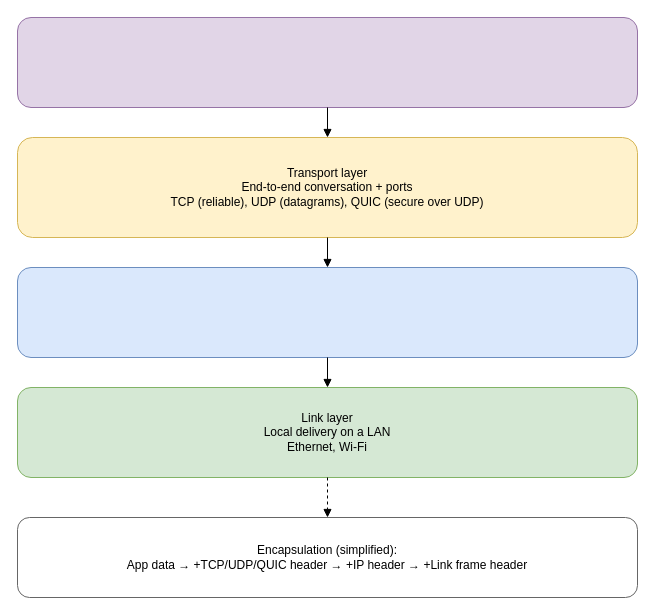
The diagram is 655 pixels wide and 615 high, and some of its shapes have lost their labels. Here are the shapes that lost their labels. From the top down, the box of each, then its label:
(16, 16, 638, 108): Application layer What you want to do Examples: HTTP, DNS, SSH, SMTP
(16, 266, 638, 358): Internet layer (IP) Addressing + routing across networks IP, ICMP
